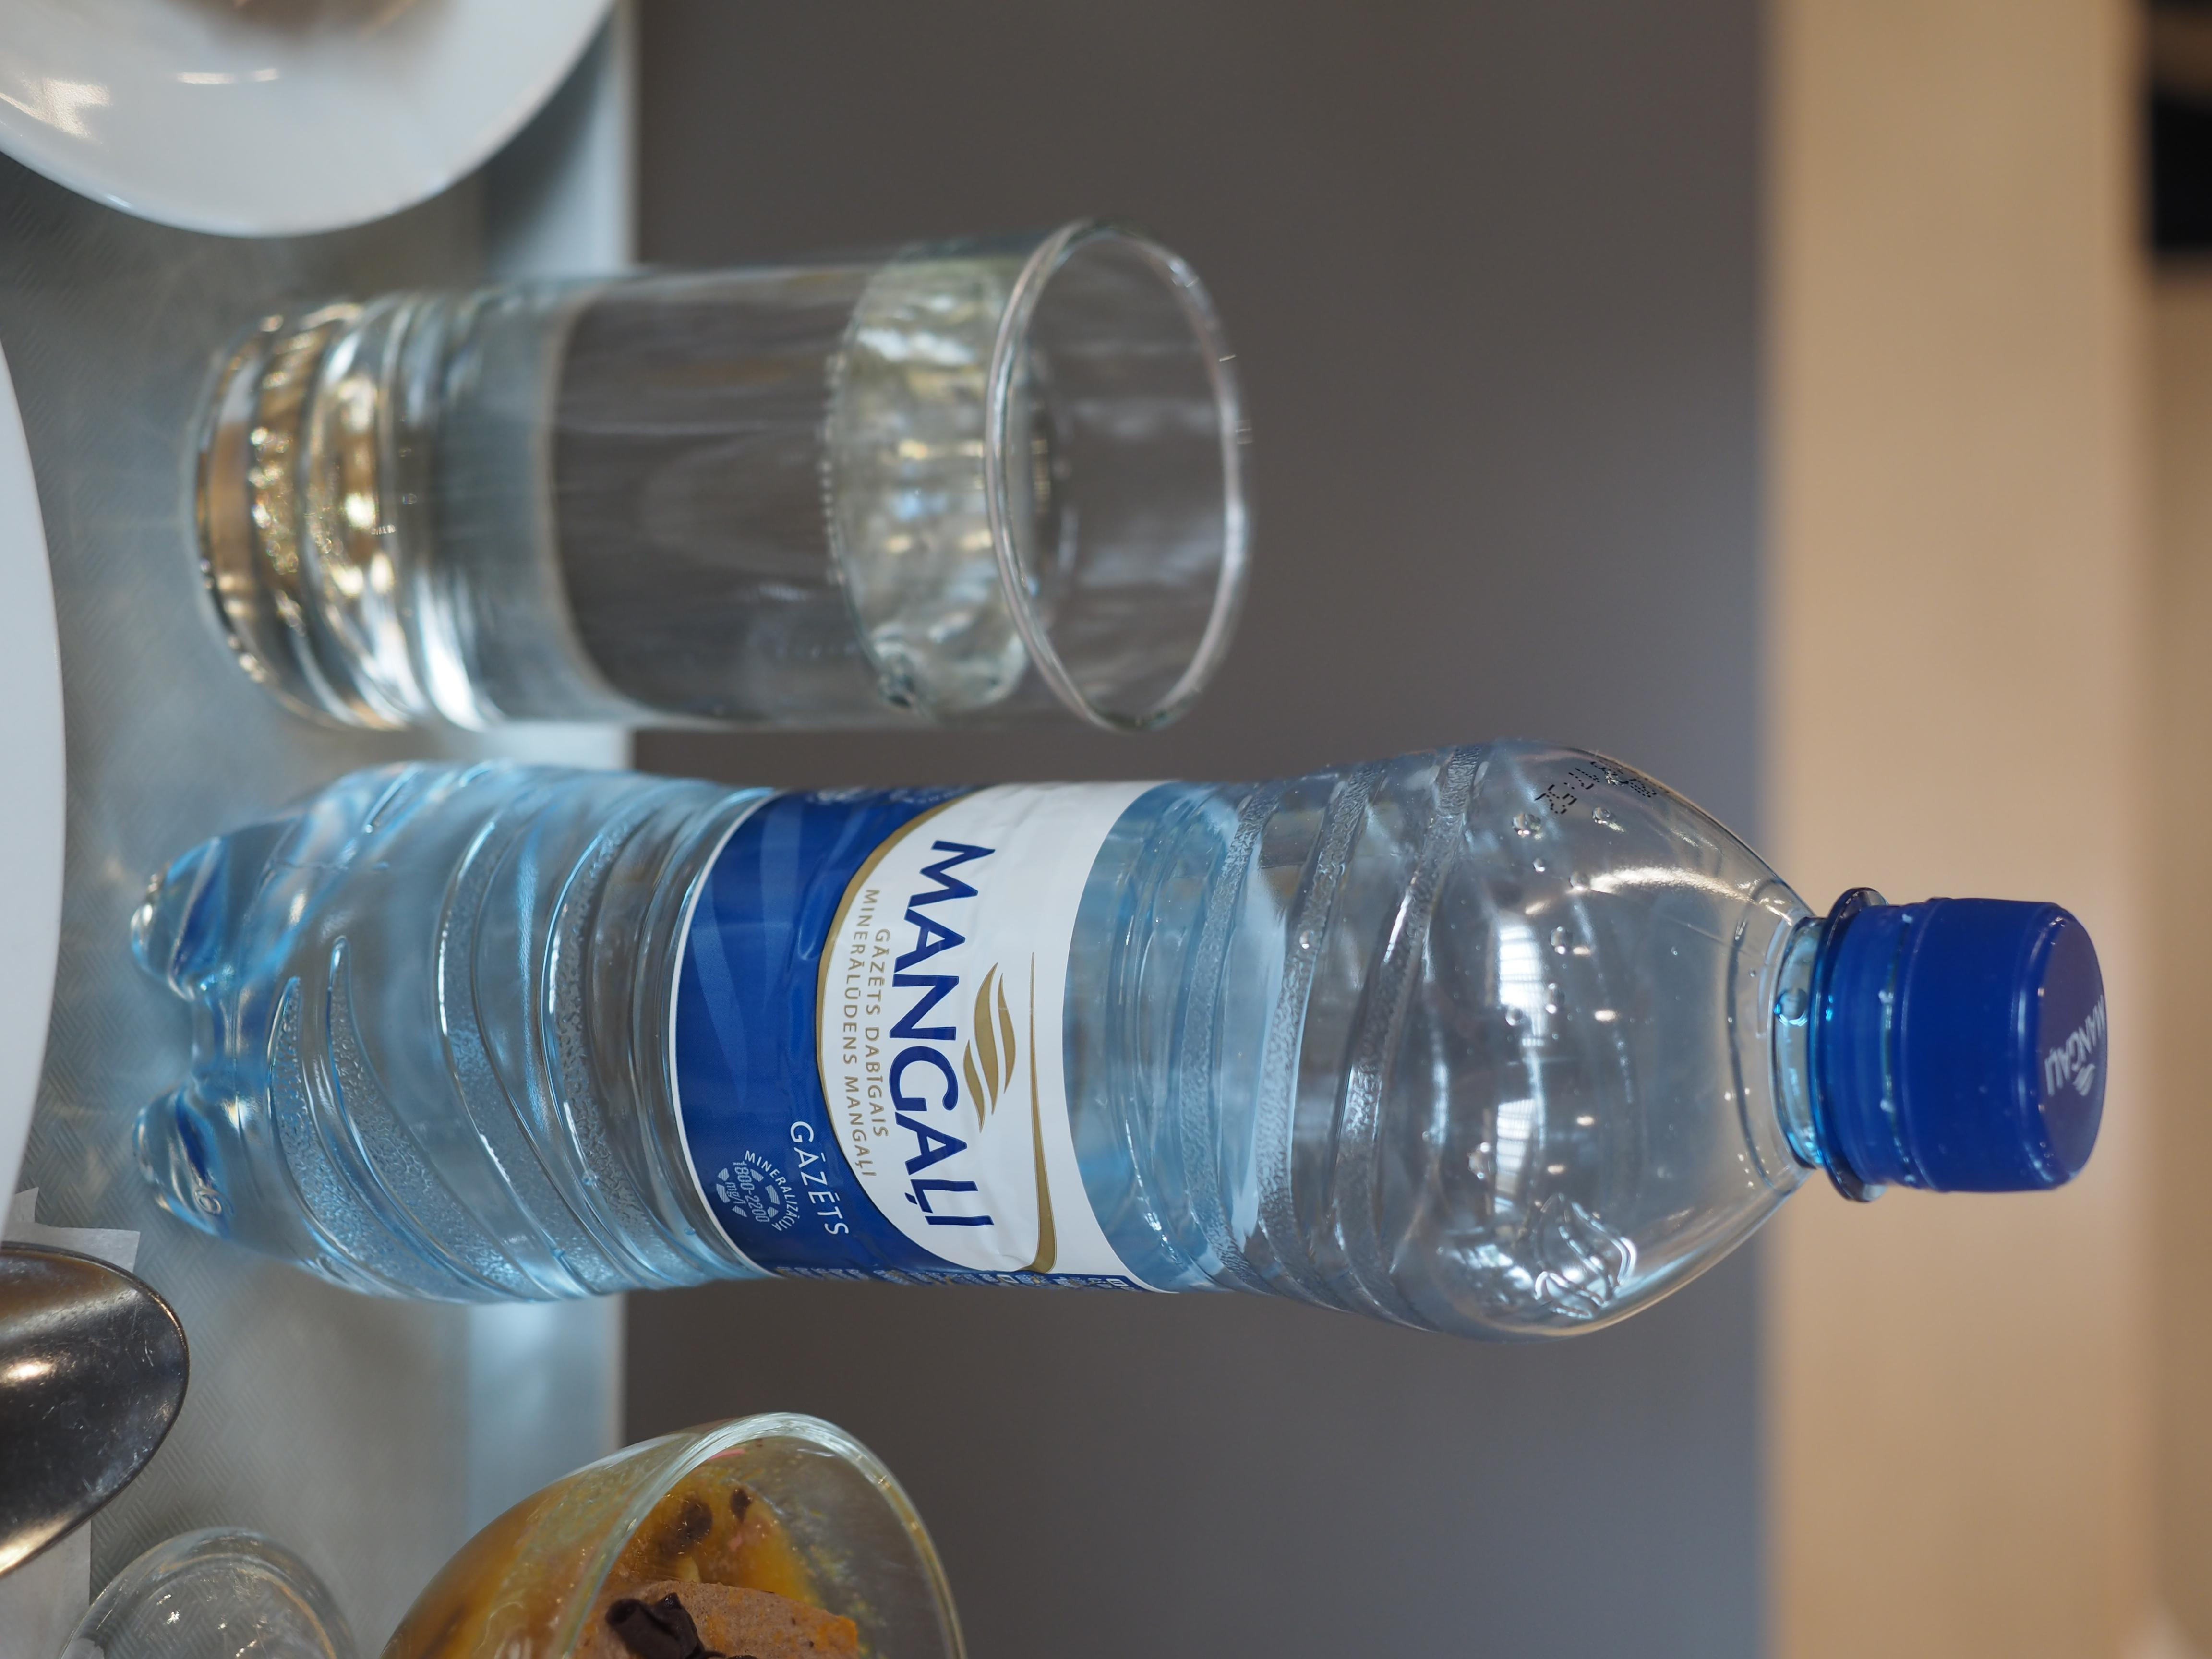bottle: (949, 47, 1858, 1624)
